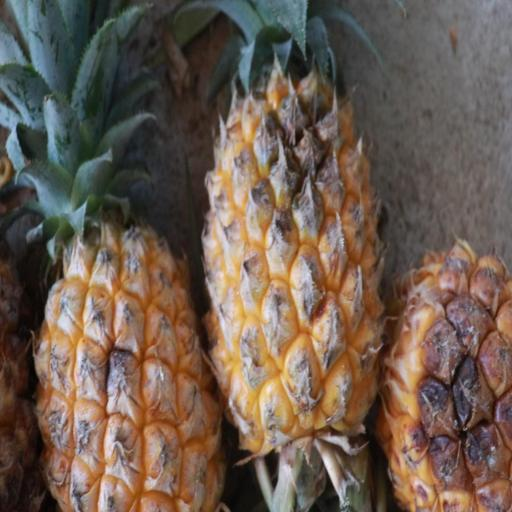Pineapple - v8 v1: (31, 0, 227, 512), (196, 0, 387, 452), (375, 235, 512, 512)
